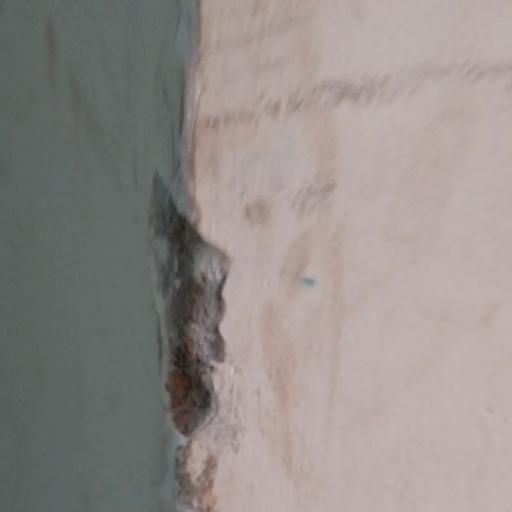spalling: (124, 155, 252, 479)
